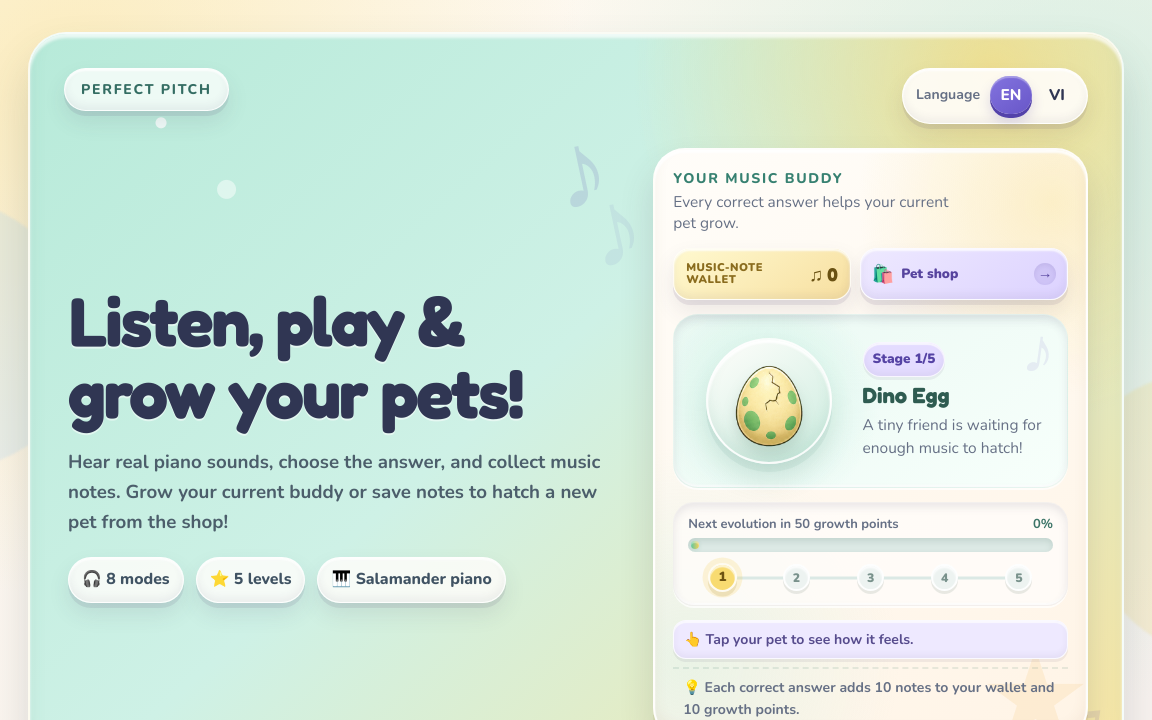
Scenario: PerfectPitchApp › toggles language immediately and persists the selection
Click the button "VI" at (1057, 95), box [1036,76,1078,114]
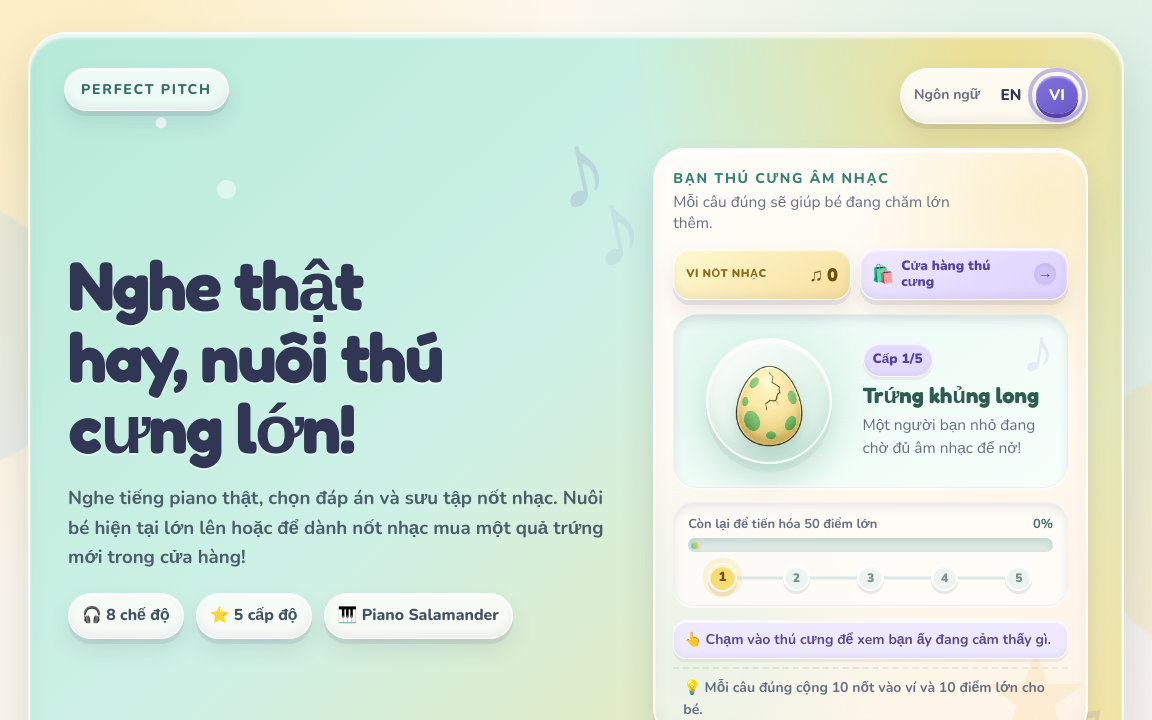
Result: the heading "Nghe thật hay, nuôi thú cưng lớn!" is shown at [68,243,442,470]
Click the button "EN" at (1011, 95), box [990,76,1032,114]
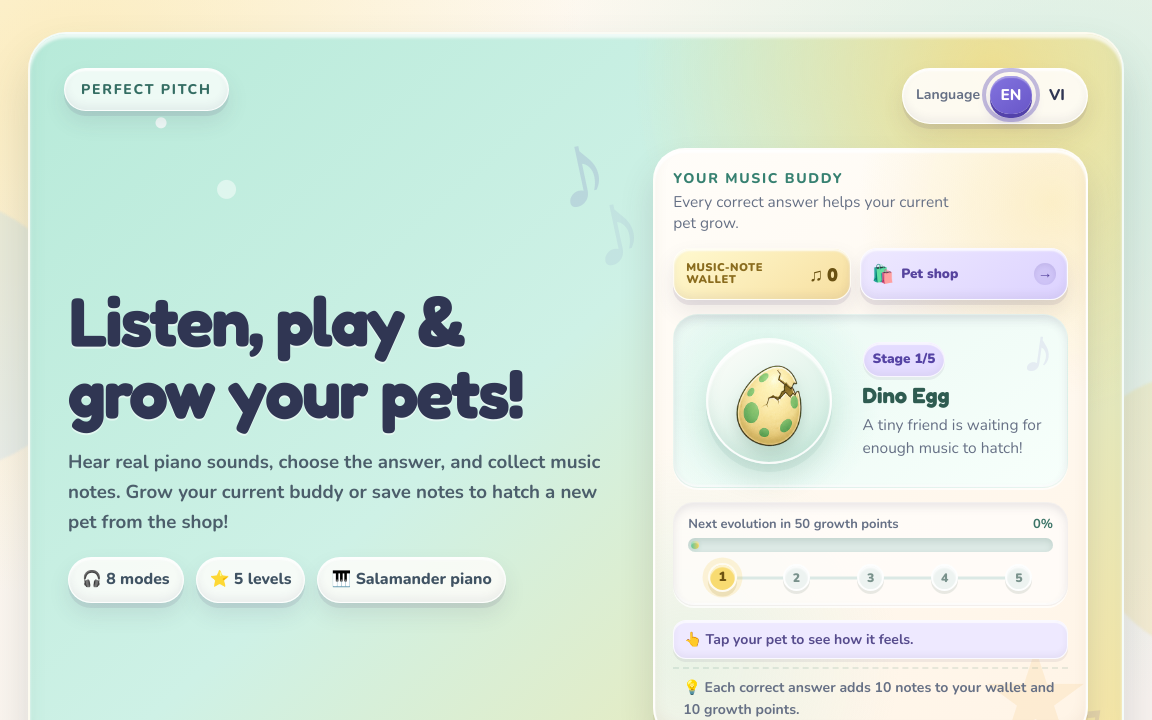
Result: the heading "Listen, play & grow your pets!" is shown at [68,285,536,428]
